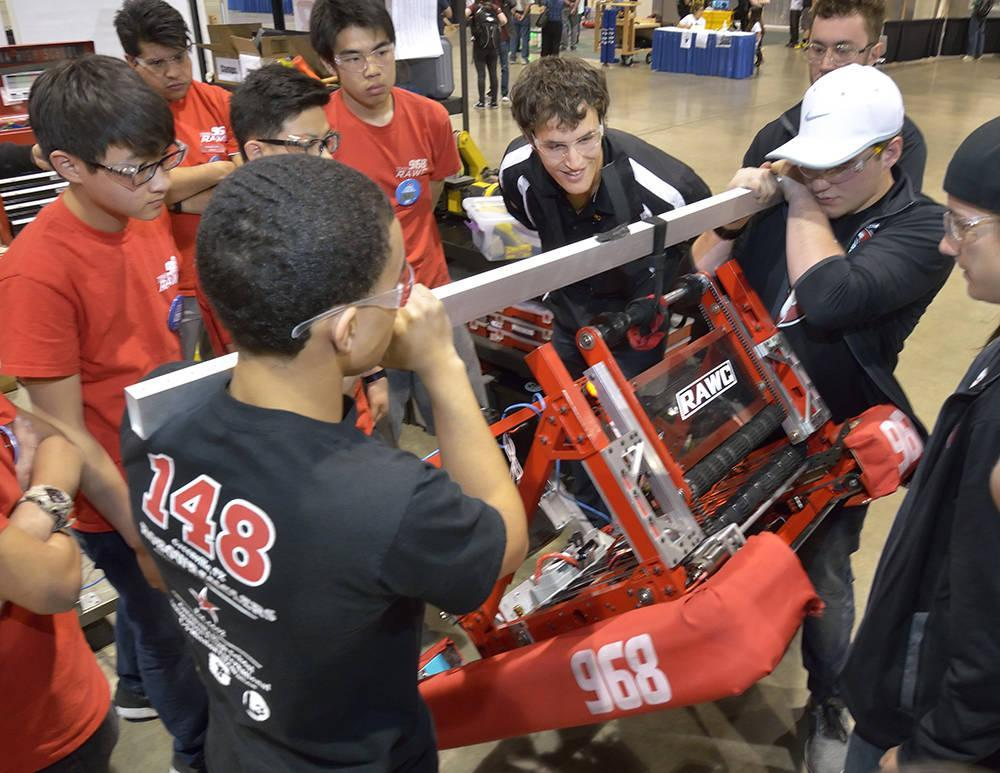robot: (150, 203, 922, 754)
